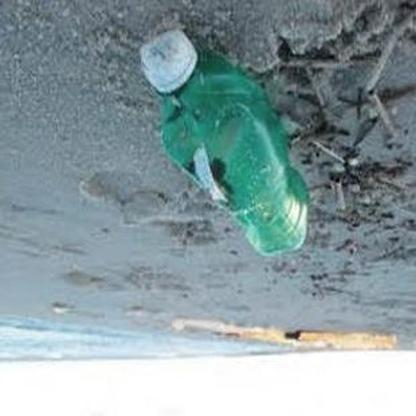plastic bottle: (140, 31, 310, 255)
